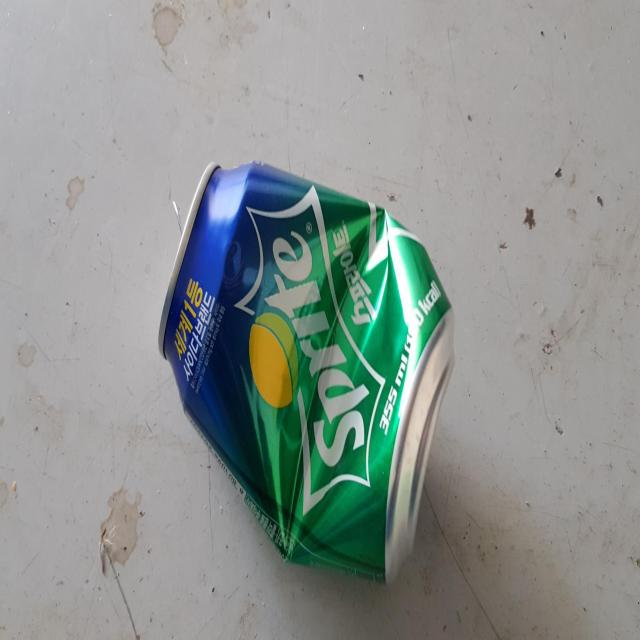can: (158, 162, 455, 582)
